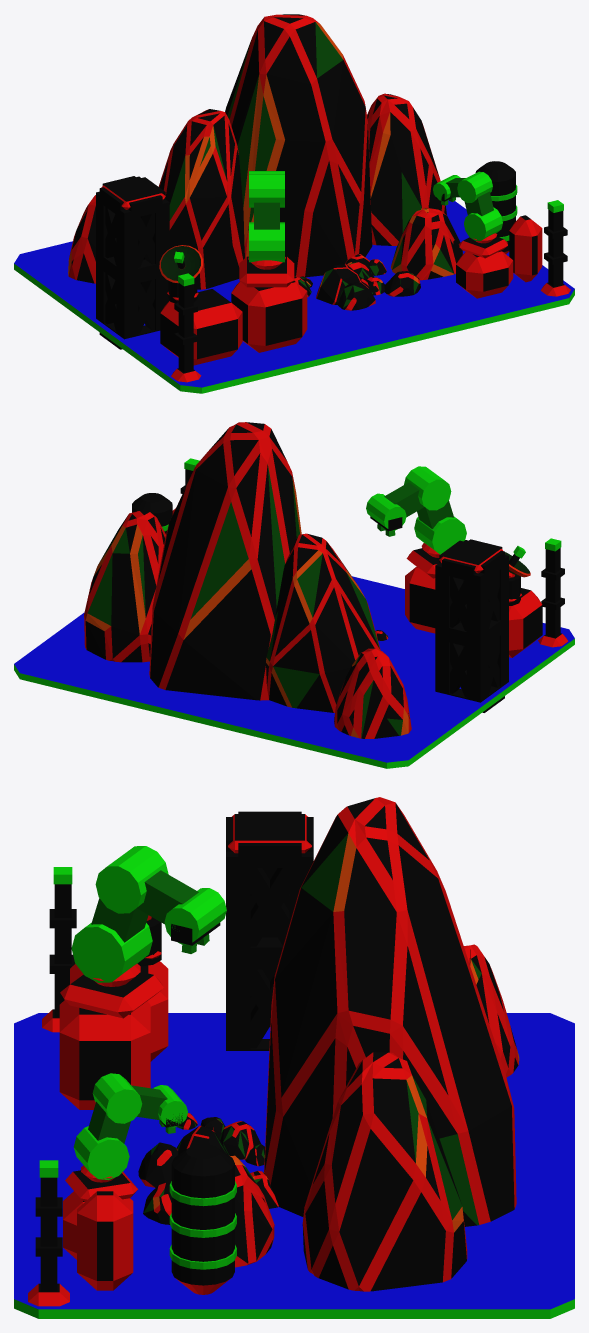
Rendered from SM_Holo_OreMine_T3_Mini.fbx.
The picture shows the model from 3 angles, top to bottom: view 1: azimuth 30°, elevation 25°; view 2: azimuth 150°, elevation 25°; view 3: azimuth 270°, elevation 25°; orthographic projection. The views are drawn at different scales.
Visible parts, largest first — view 1: SM_Holo_OreMine_T3_Mini; view 2: SM_Holo_OreMine_T3_Mini; view 3: SM_Holo_OreMine_T3_Mini.
Part boxes in pixels (box(x1,y1,x2,y2)): SM_Holo_OreMine_T3_Mini: box(14, 14, 574, 393); SM_Holo_OreMine_T3_Mini: box(14, 422, 574, 768); SM_Holo_OreMine_T3_Mini: box(14, 797, 574, 1318).
Bounding box in the file's own units: 20 × 12.2 × 16.
